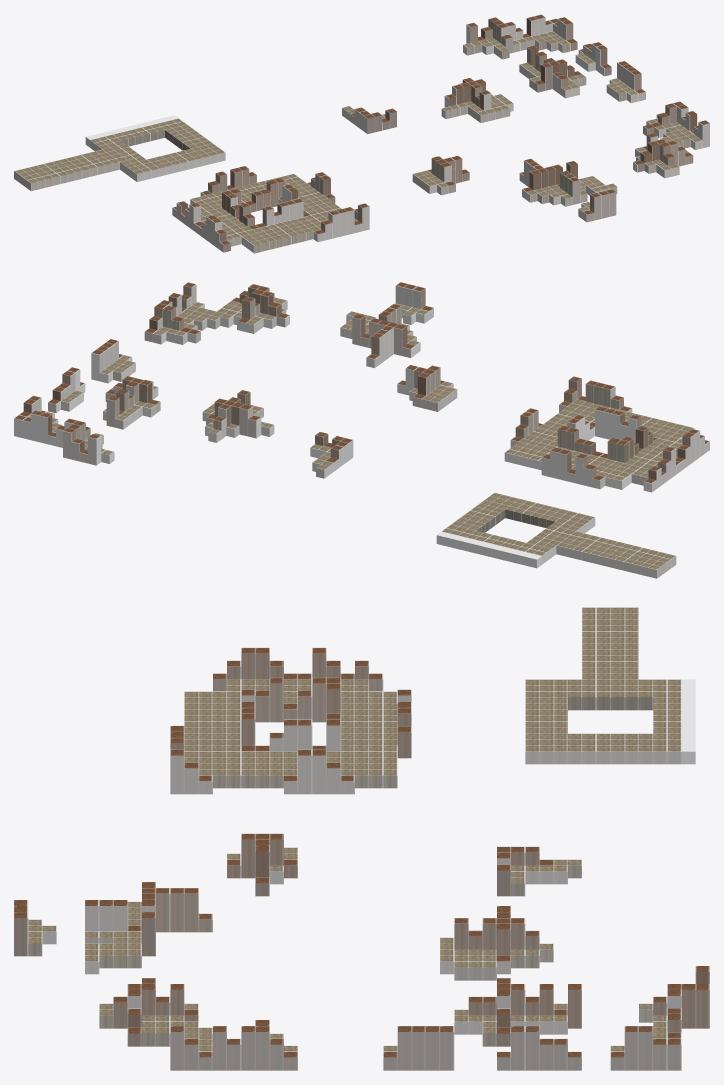
3 views of the same model, one above another, from view 1: azimuth 30°, elevation 25°; view 2: azimuth 150°, elevation 25°; view 3: azimuth 270°, elevation 25° (orthographic). The views are drawn at different scales.
Visible parts, largest first — view 1: Plano80x80P5; view 2: Plano80x80P5; view 3: Plano80x80P5.
Boxes of the visible parts, x1,y1,x2,y2 form: Plano80x80P5: (14,14,709,253); Plano80x80P5: (14,282,709,578); Plano80x80P5: (14,607,709,1070).
Bounding box in the file's own units: 75 × 3 × 49.
1 material, 1 textured.
